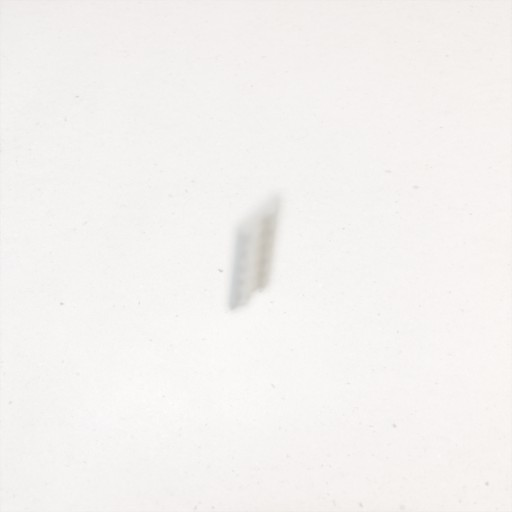lego: (225, 188, 285, 315)
